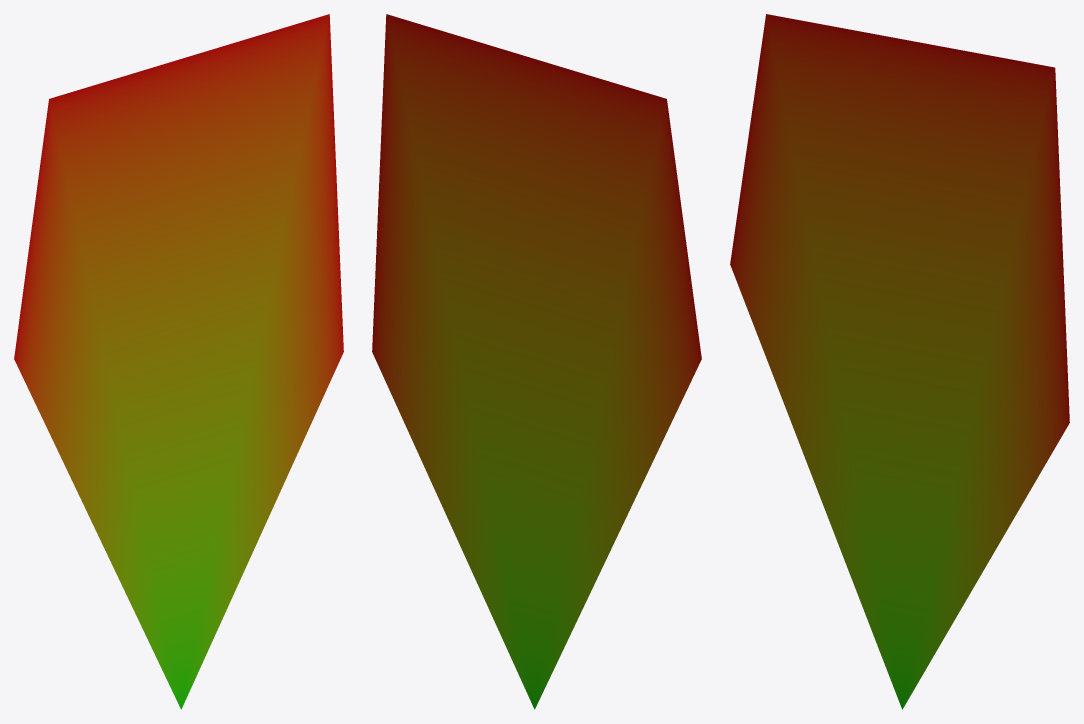
File: Alpine Bearberry_LOD5_Var5_xb0gdazqx.fbx
3 renders of one model, left to right at view 1: azimuth 30°, elevation 25°; view 2: azimuth 150°, elevation 25°; view 3: azimuth 330°, elevation 25°, orthographic. The views are drawn at different scales.
Visible parts, largest first — view 1: _a9g1_Var5_LOD5; view 2: _a9g1_Var5_LOD5; view 3: _a9g1_Var5_LOD5.
Part boxes in pixels (box(x1,y1,x2,y2)): _a9g1_Var5_LOD5: box(14, 14, 343, 709); _a9g1_Var5_LOD5: box(372, 14, 701, 709); _a9g1_Var5_LOD5: box(730, 14, 1069, 709).
Size of the model in its own units: 5.8 by 11.08 by 4.84e-07.
